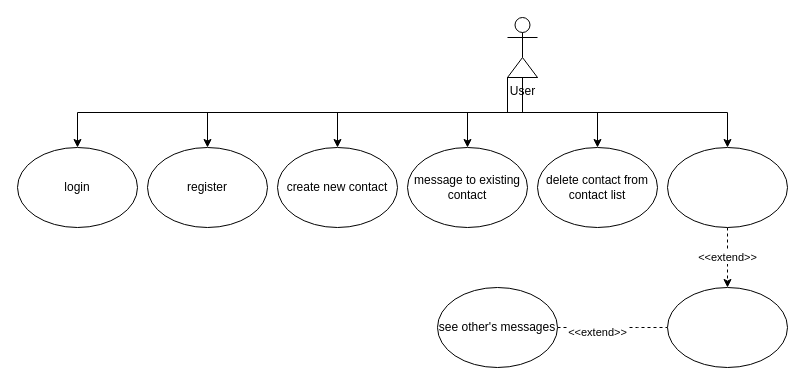
The diagram is 805 pixels wide and 385 high, and some of its shapes have lost their labels. Each missing label, with the centre of its shape:
find user: point 727,187
list all people using the platform: point 727,327
